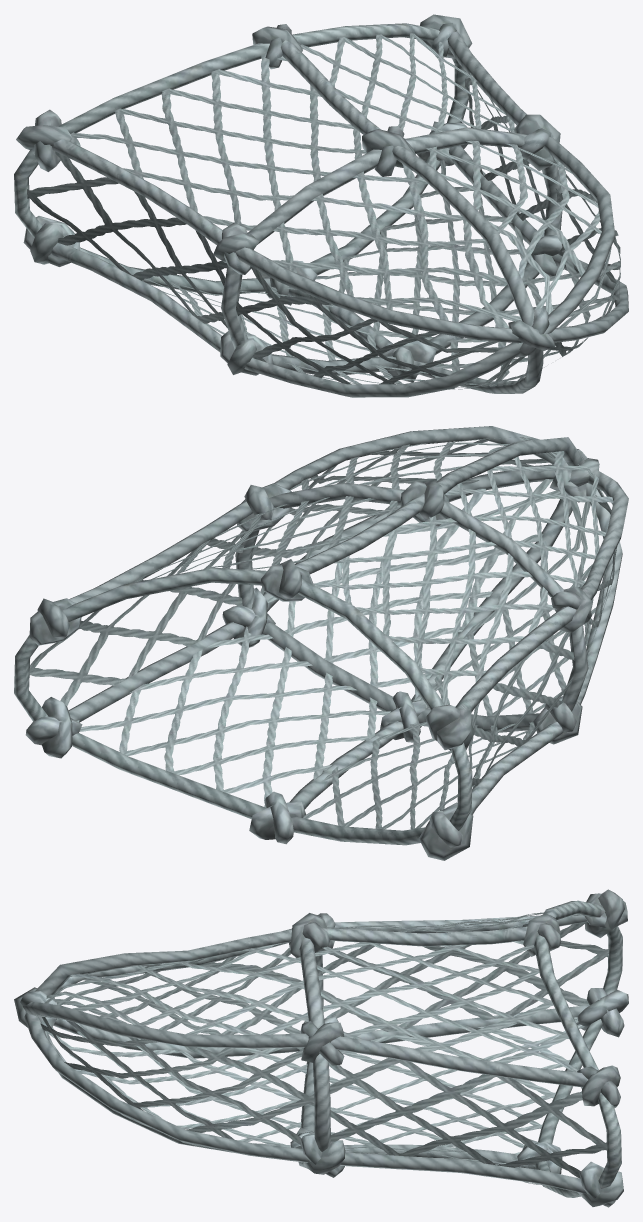
The picture shows the model from 3 angles, top to bottom: view 1: azimuth 30°, elevation 25°; view 2: azimuth 150°, elevation 25°; view 3: azimuth 270°, elevation 25°; orthographic projection. The views are drawn at different scales.
Visible parts, largest first — view 1: SM_Fishing_Net_Mystic_LOD0; view 2: SM_Fishing_Net_Mystic_LOD0; view 3: SM_Fishing_Net_Mystic_LOD0.
Boxes of the visible parts, x1,y1,x2,y2 form: SM_Fishing_Net_Mystic_LOD0: (14,14,628,397); SM_Fishing_Net_Mystic_LOD0: (14,426,628,860); SM_Fishing_Net_Mystic_LOD0: (14,889,628,1207).
Bounding box in the file's own units: 0.4682 × 0.2739 × 0.5942.
Materials: 1 (1 with a texture image).
